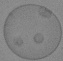small: (40, 7, 52, 19), (33, 33, 43, 43), (14, 37, 23, 46)
